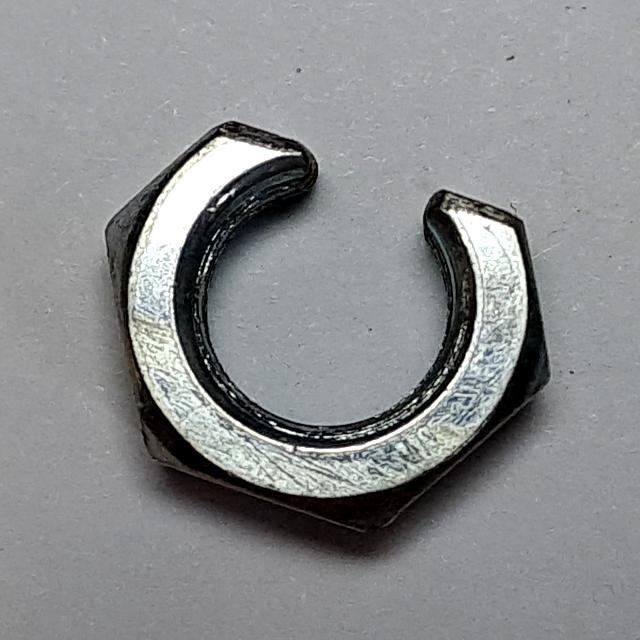Fracture: (98, 113, 569, 554)
